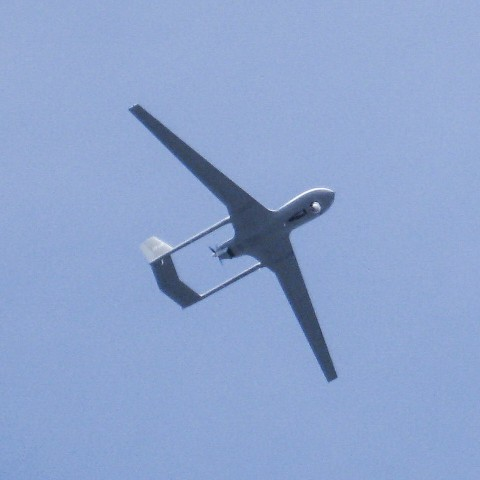maybay_khongnguoilai: (125, 104, 348, 384)
